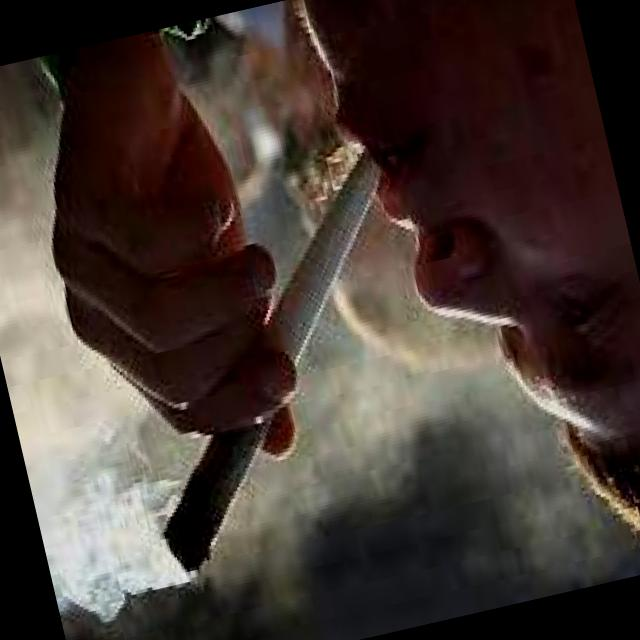smoke: (86, 149, 460, 586)
